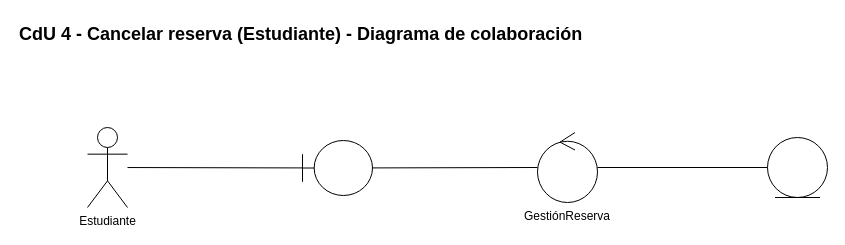
The diagram is 845 pixels wide and 245 high, and some of its shapes have lost their labels. Each missing label, with the box of its shape:
PantallaEventos: (302, 140, 372, 196)
Reserva: (766, 136, 828, 198)
